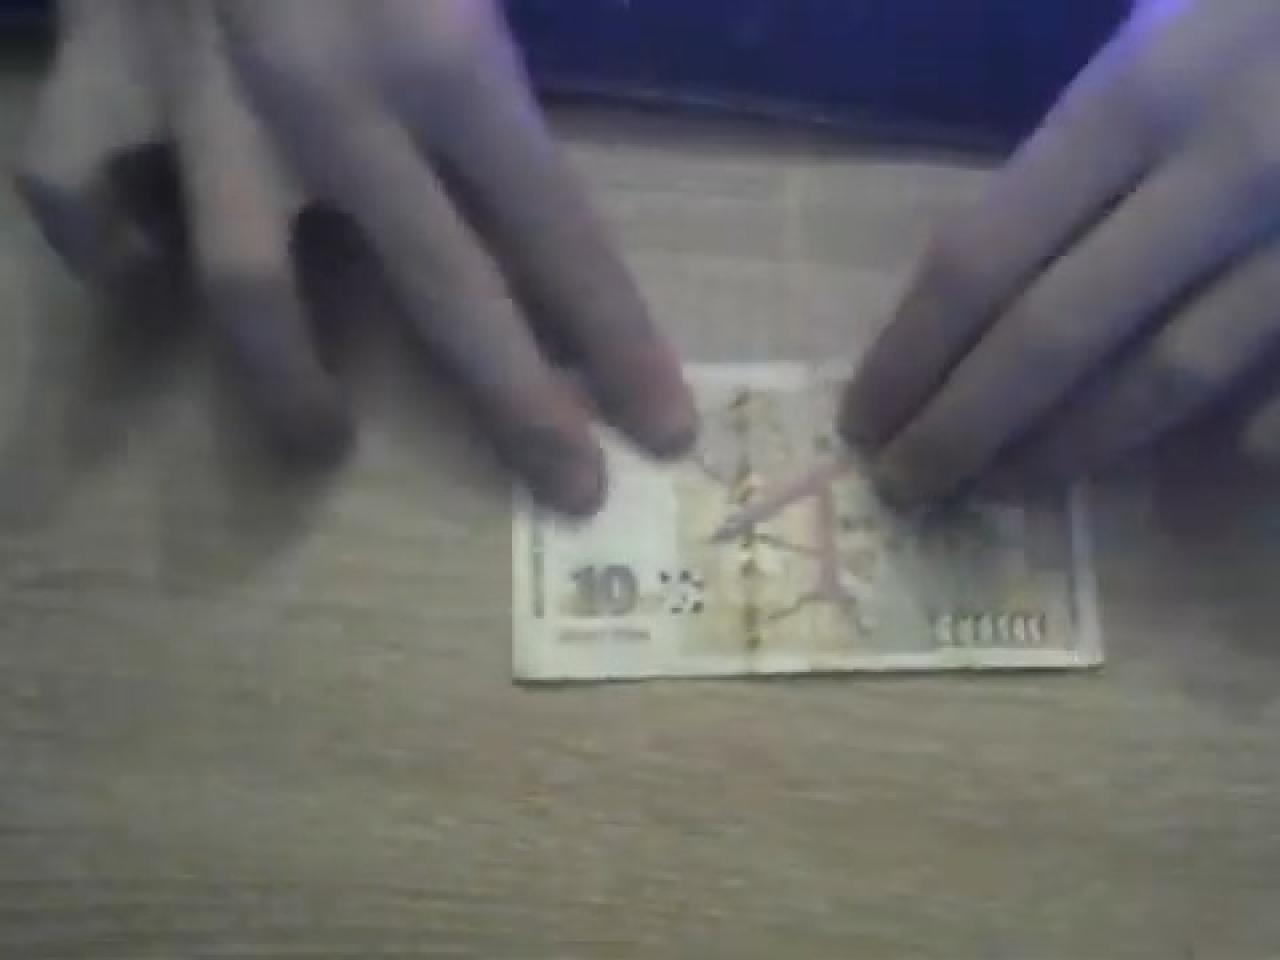10leva: (509, 363, 1104, 688)
